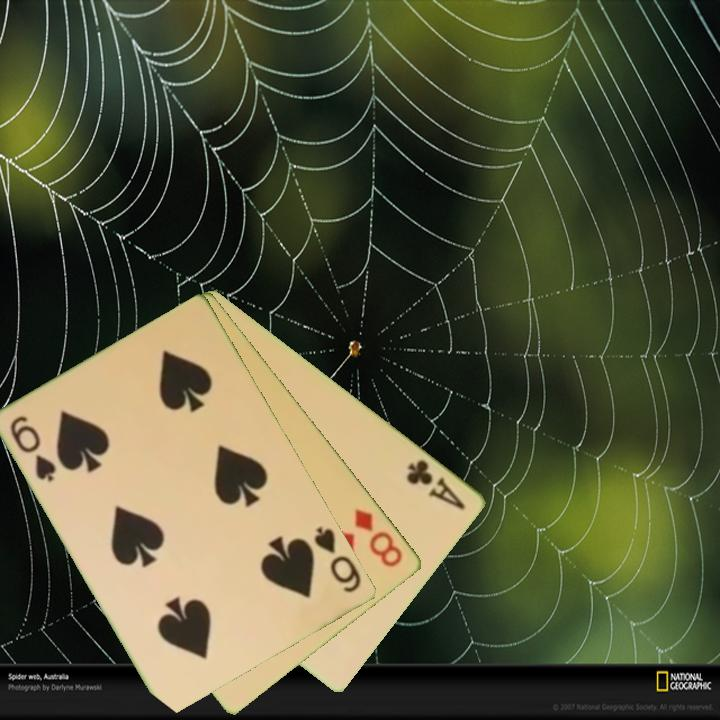6s: (310, 523, 365, 596), (7, 412, 60, 485)
8d: (351, 504, 406, 571)
Ac: (403, 455, 469, 513)
